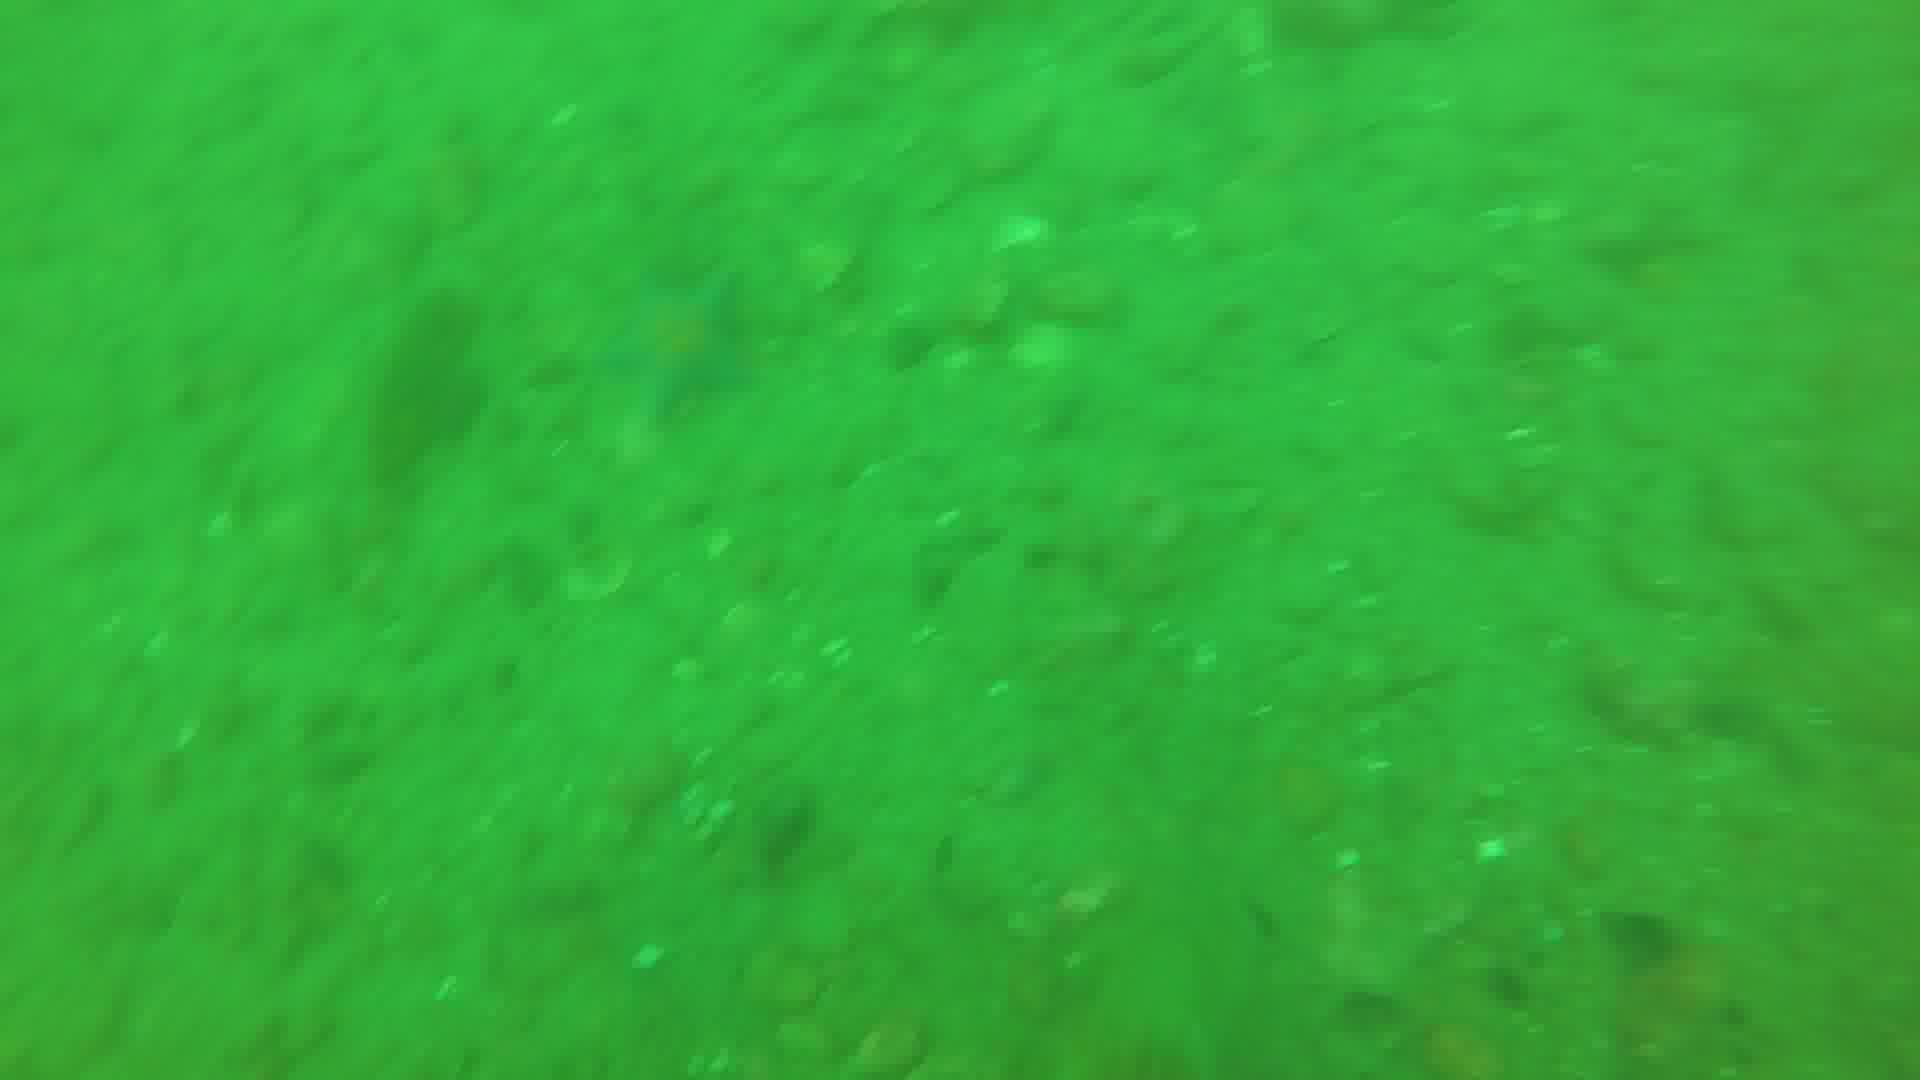scallop: (795, 222, 855, 301), (553, 545, 638, 597), (986, 215, 1058, 276)
starfish: (564, 270, 752, 440)
